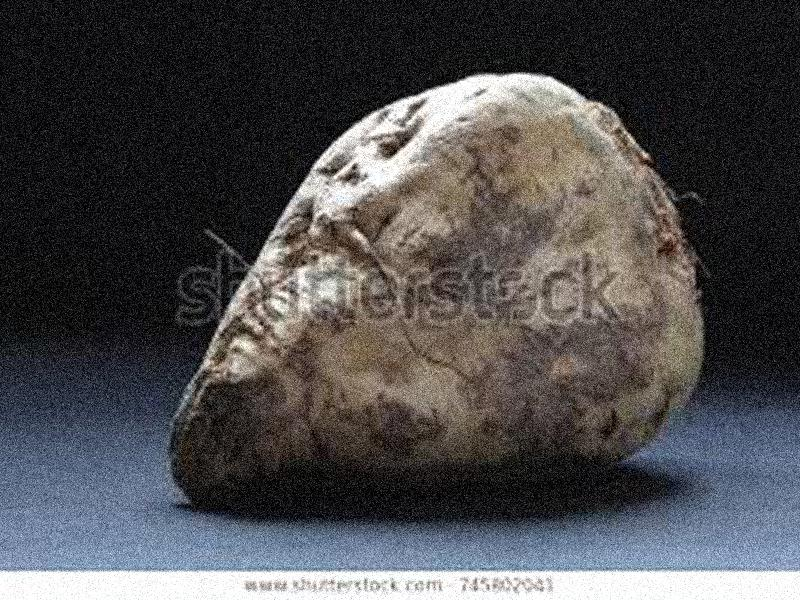Beet: (176, 77, 710, 498)
